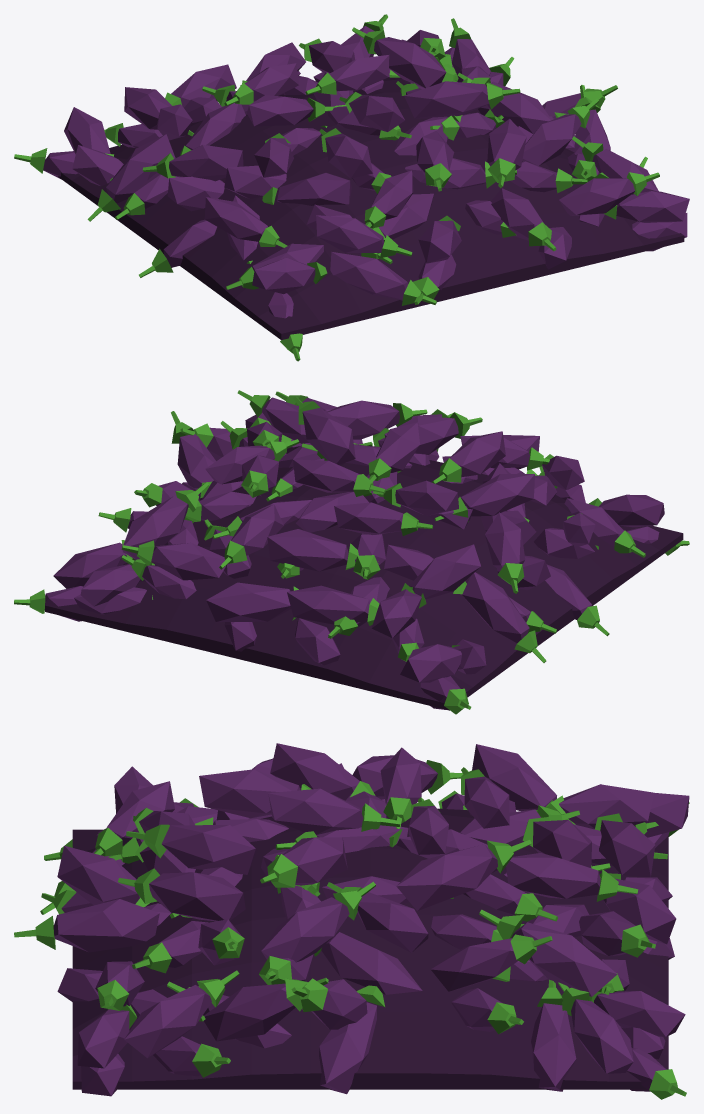
File: Pile_Eggplant.fbx
3 views of the same model, one above another, from view 1: azimuth 30°, elevation 25°; view 2: azimuth 150°, elevation 25°; view 3: azimuth 270°, elevation 25° (orthographic). The views are drawn at different scales.
Parts seen in each view (by area): view 1: Pile_Eggplant; view 2: Pile_Eggplant; view 3: Pile_Eggplant.
Boxes of the visible parts, box(x1,y1,x2,y2) form: Pile_Eggplant: box(14, 14, 689, 361); Pile_Eggplant: box(14, 390, 689, 714); Pile_Eggplant: box(14, 743, 689, 1099).
Size of the model in its own units: 1.15 by 0.3415 by 1.13.
